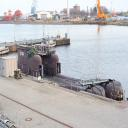submarine: (11, 46, 110, 99), (36, 46, 125, 101)
